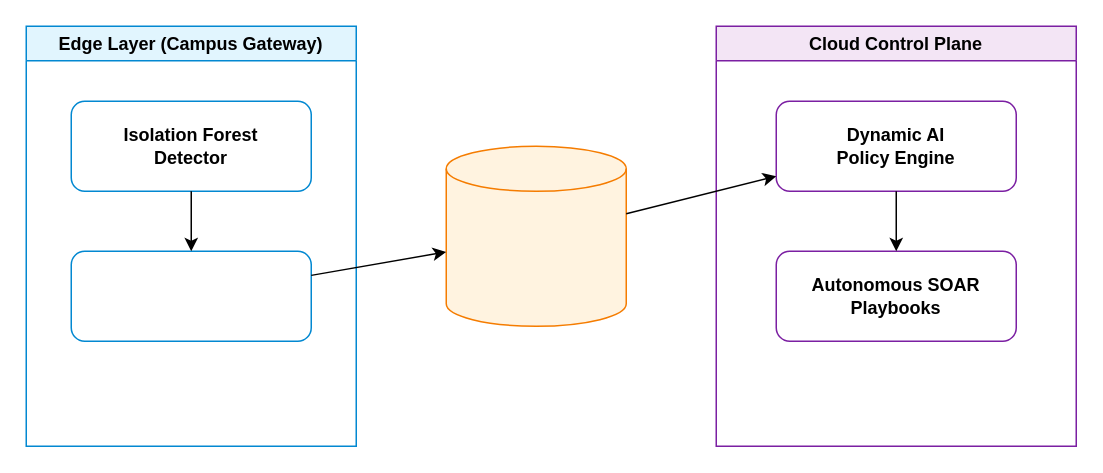
Image size: 1103x473. Some labels were removed from this diagram. Here are the shapes that lost their labels. From the top down, the centre of each, then its label:
At point (535, 235): "Event Bus (Redis Stream)".
At point (190, 295): "Identity Context Fusion".
